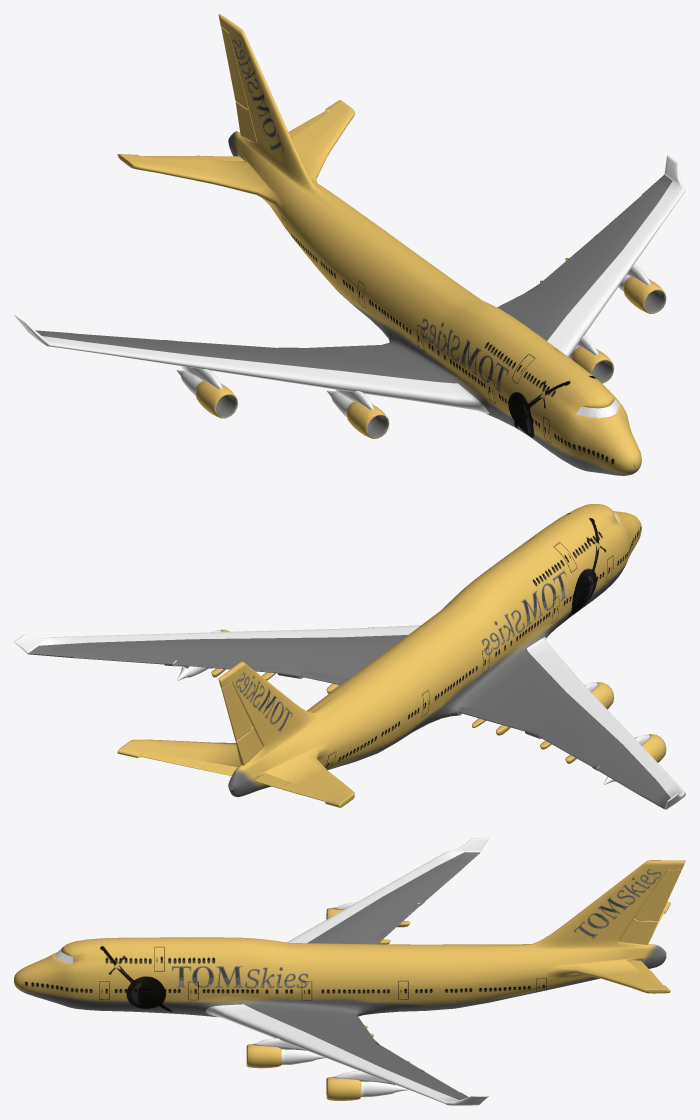
File: airplane.glb
3 renders of one model, top to bottom at view 1: azimuth 30°, elevation 25°; view 2: azimuth 150°, elevation 25°; view 3: azimuth 270°, elevation 25°, orthographic. The views are drawn at different scales.
Visible parts, largest first — view 1: Cylinder; view 2: Cylinder; view 3: Cylinder.
Boxes of the visible parts, x1,y1,x2,y2 form: Cylinder: [14, 14, 685, 475]; Cylinder: [14, 504, 685, 809]; Cylinder: [14, 838, 685, 1105].
Bounding box in the file's own units: 1.33 × 0.388 × 1.46.
Materials: 3 (1 with a texture image).
